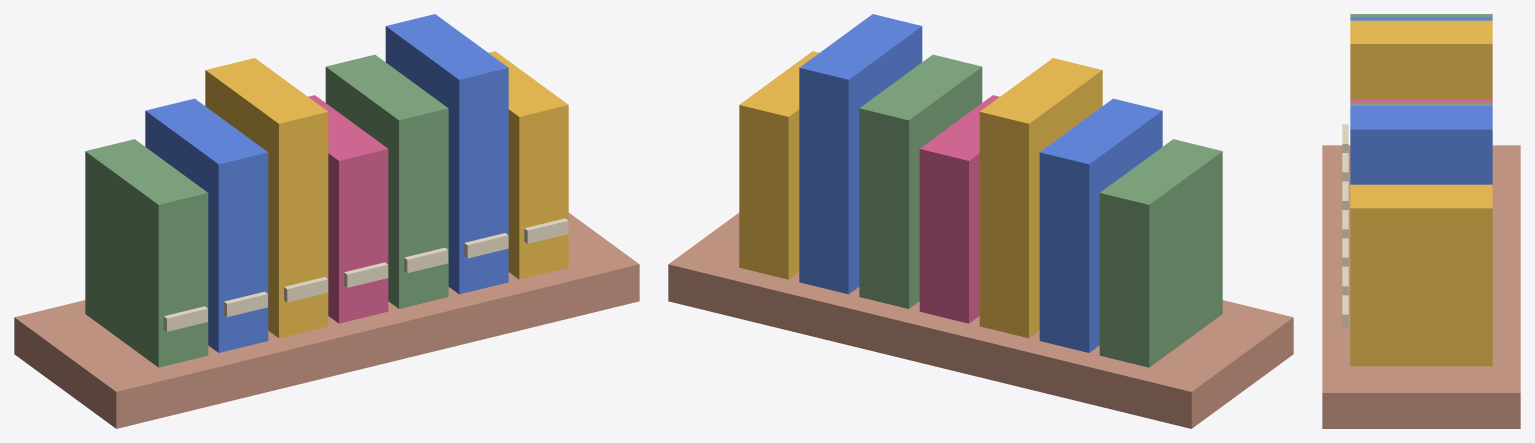
3 views of the same model, side by side, from view 1: azimuth 30°, elevation 25°; view 2: azimuth 150°, elevation 25°; view 3: azimuth 270°, elevation 25° (orthographic). The views are drawn at different scales.
Parts seen in each view (by area): view 1: Book shelf bottom, Book cover, Book cover.005, Book cover.002, Book cover.004, Book cover.001, Book cover.006, Book cover.003, Book spine band, Book spine band.002, Book spine band.005, Book spine band.006 (+3 smaller); view 2: Book shelf bottom, Book cover, Book cover.002, Book cover.005, Book cover.001, Book cover.004, Book cover.006, Book cover.003; view 3: Book cover.006, Book shelf bottom, Book cover.002, Book cover.005, Book cover, Book cover.001, Book cover.003, Book cover.004, Book spine band.006, Book spine band.005, Book spine band, Book spine band.001 (+3 smaller).
Boxes of the visible parts, left/top/right/bottom form: Book shelf bottom: left=14, top=213, right=639, bottom=428; Book cover: left=85, top=139, right=208, bottom=367; Book cover.005: left=385, top=14, right=508, bottom=294; Book cover.002: left=205, top=58, right=328, bottom=338; Book cover.004: left=325, top=54, right=448, bottom=308; Book cover.001: left=145, top=98, right=268, bottom=352; Book cover.006: left=488, top=51, right=568, bottom=279; Book cover.003: left=308, top=95, right=388, bottom=323; Book spine band: left=163, top=306, right=207, bottom=331; Book spine band.002: left=284, top=277, right=328, bottom=302; Book spine band.005: left=464, top=233, right=508, bottom=258; Book spine band.006: left=524, top=218, right=568, bottom=243; Book shelf bottom: left=668, top=213, right=1293, bottom=428; Book cover: left=1099, top=139, right=1222, bottom=367; Book cover.002: left=979, top=58, right=1102, bottom=338; Book cover.005: left=799, top=14, right=922, bottom=294; Book cover.001: left=1039, top=98, right=1162, bottom=352; Book cover.004: left=859, top=54, right=982, bottom=308; Book cover.006: left=739, top=51, right=819, bottom=279; Book cover.003: left=919, top=95, right=999, bottom=323; Book cover.006: left=1350, top=184, right=1492, bottom=366; Book shelf bottom: left=1322, top=145, right=1520, bottom=428; Book cover.002: left=1350, top=20, right=1492, bottom=99; Book cover.005: left=1350, top=106, right=1492, bottom=184; Book cover: left=1350, top=14, right=1492, bottom=17; Book cover.001: left=1350, top=17, right=1492, bottom=20; Book cover.003: left=1350, top=99, right=1492, bottom=102; Book cover.004: left=1350, top=102, right=1492, bottom=105; Book spine band.006: left=1342, top=295, right=1348, bottom=327; Book spine band.005: left=1342, top=266, right=1348, bottom=295; Book spine band: left=1342, top=124, right=1348, bottom=152; Book spine band.001: left=1342, top=153, right=1348, bottom=181.
Bounding box in the file's own units: 0.74 × 0.34 × 0.25.
Materials: 1 (1 with a texture image).
